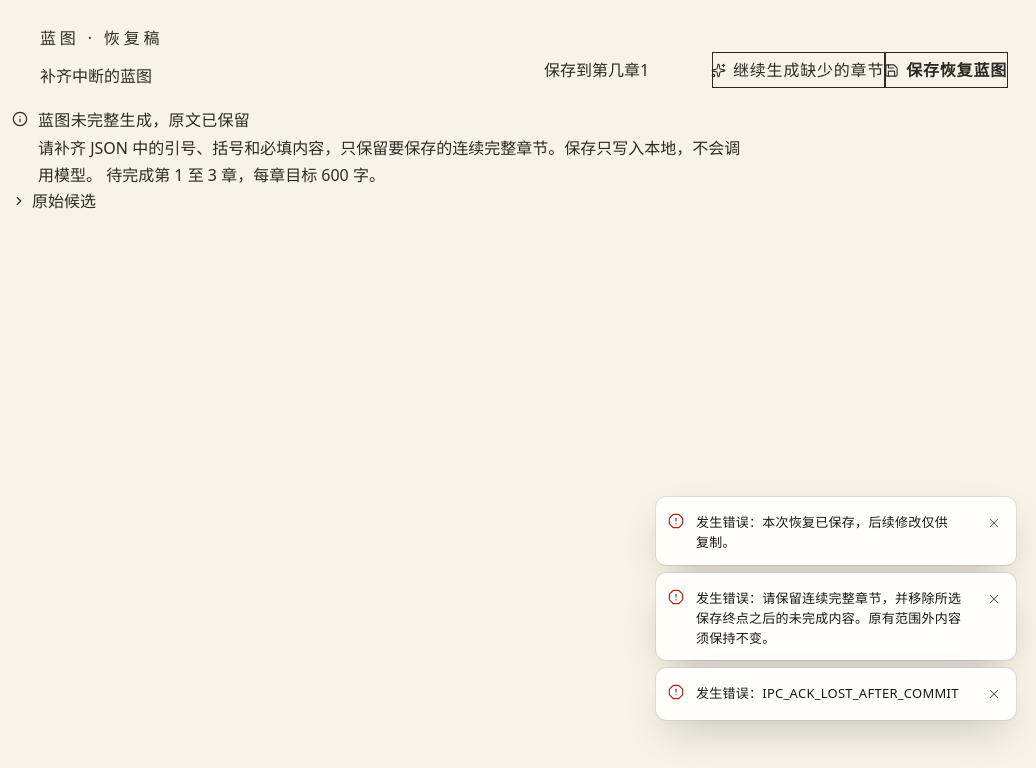
Scenario: planning recovery editors › unavailable blueprint GENERATION_BLUEPRINTS_CLEARED keeps editable text without replaying a pending save
Later steps or results of the test are not shown.
Step 1. Click the button "保存恢复蓝图" → (947, 70), box left=885, top=52, right=1008, bottom=88
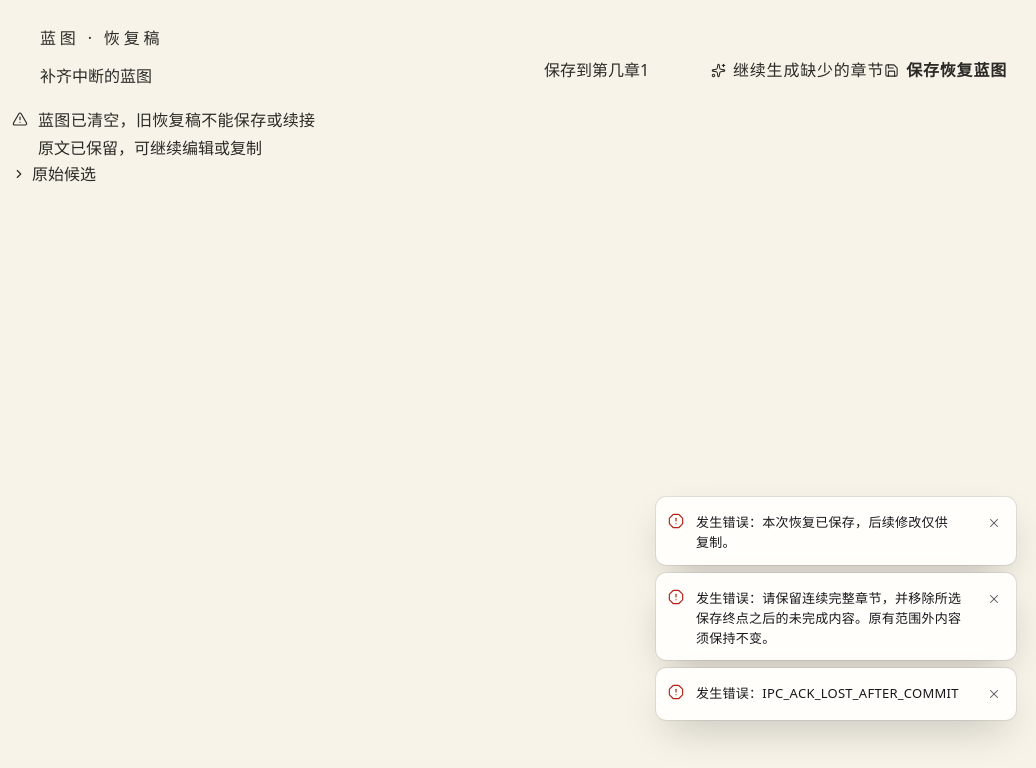
Expected: the button "继续生成缺少的章节" is disabled, left=712, top=52, right=885, bottom=88
Now the text "蓝图已清空，旧恢复稿不能保存或续接" is shown, box left=38, top=109, right=316, bottom=131
